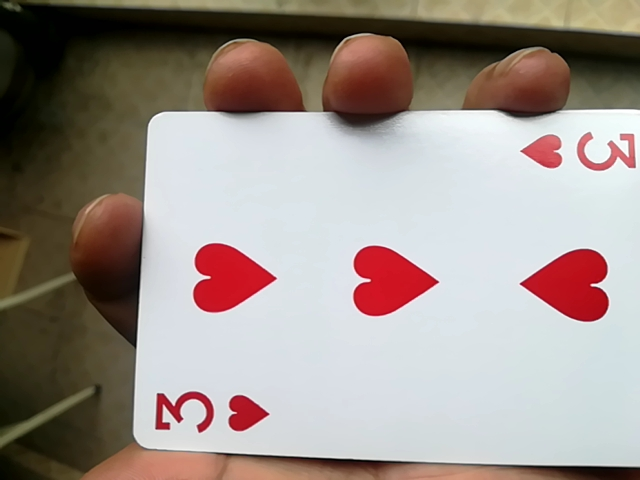hx 3: (118, 116, 633, 480)
